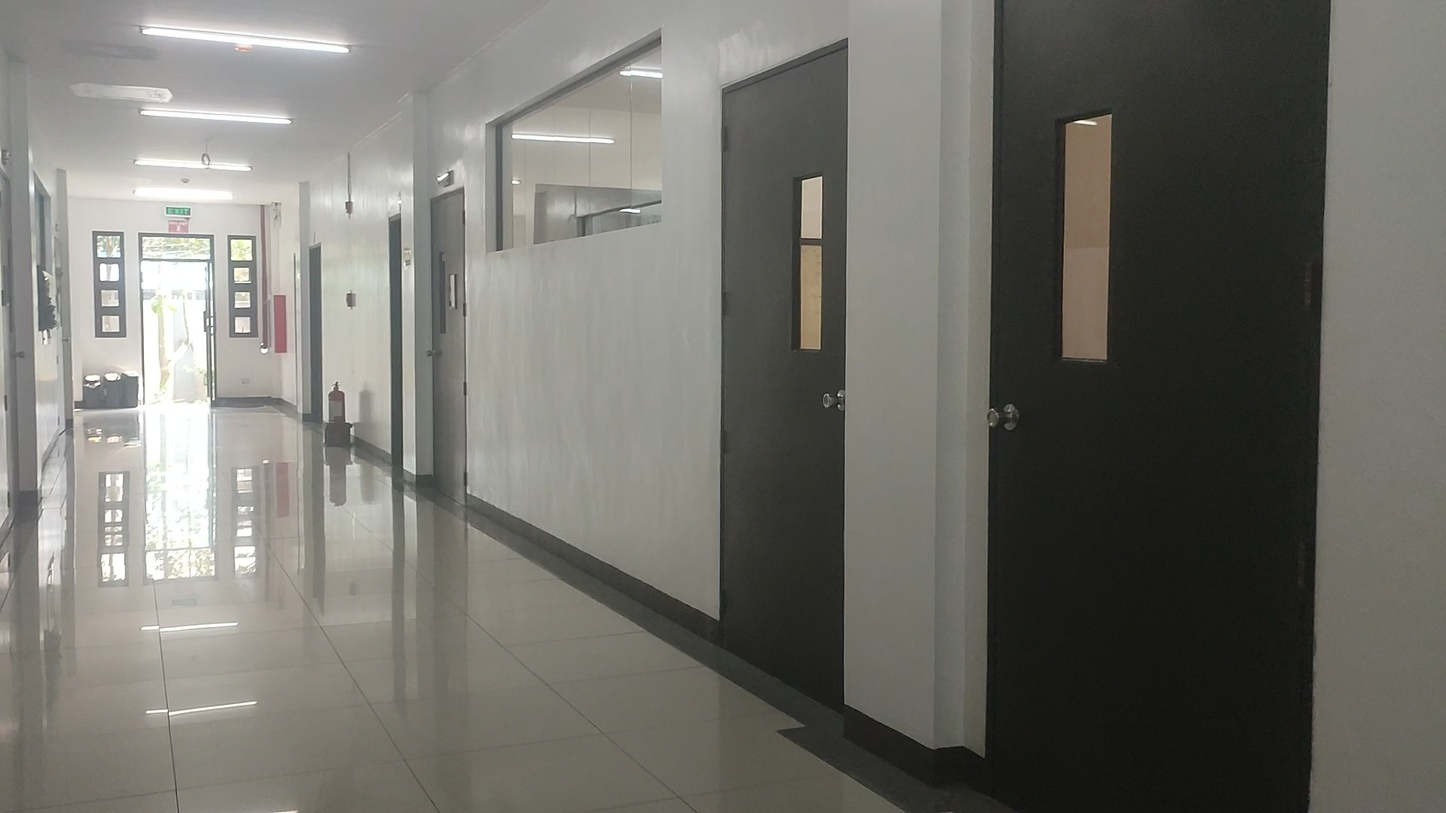door: (985, 0, 1332, 813), (723, 39, 850, 716)
